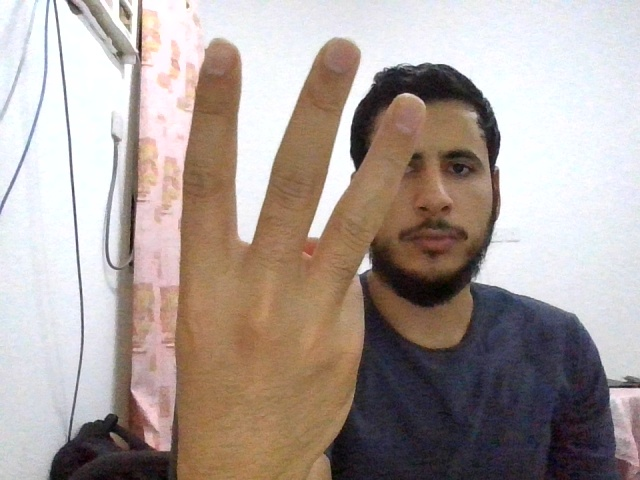Three: (174, 36, 425, 442)
